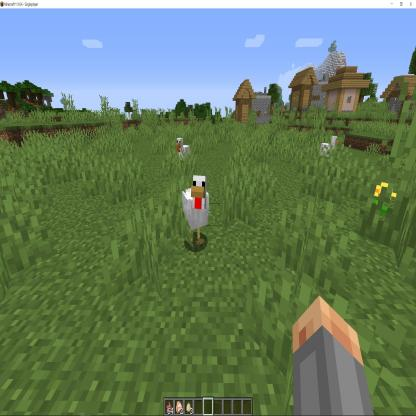minecraft-pigs: (181, 173, 213, 250), (320, 132, 342, 168), (175, 134, 192, 163)
